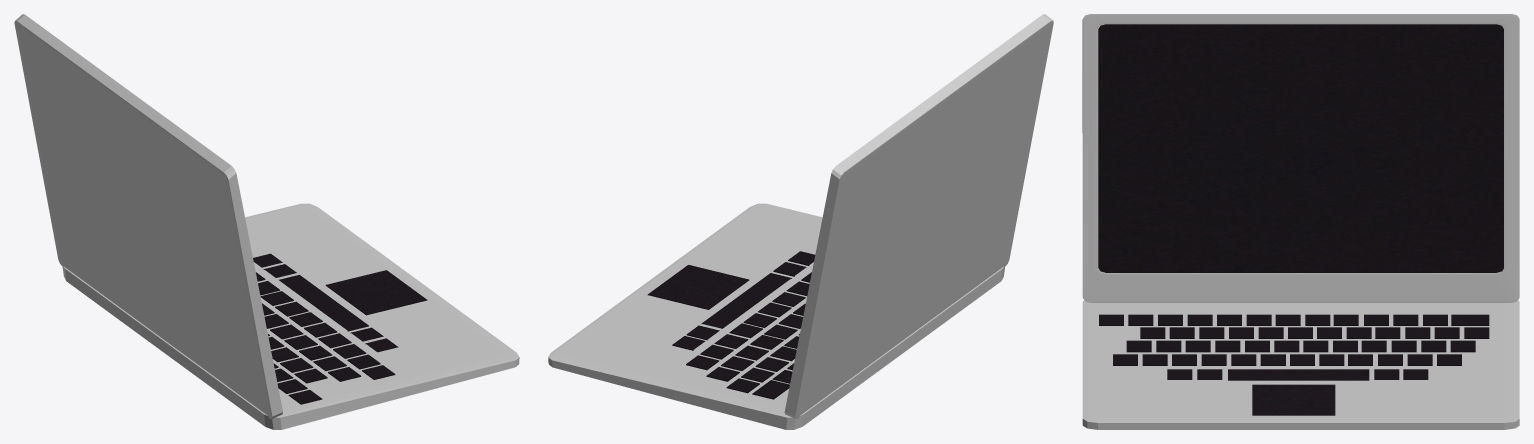
Rendered from leptop.fbx.
3 views of the same model, side by side, from view 1: azimuth 30°, elevation 25°; view 2: azimuth 150°, elevation 25°; view 3: azimuth 270°, elevation 25° (orthographic). The views are drawn at different scales.
Parts seen in each view (by area): view 1: Cube.001, Cube, Cube.002; view 2: Cube.001, Cube, Cube.002; view 3: Plane, Cube, Cube.001, Cube.002.
Boxes of the visible parts, x1,y1,x2,y2 form: Cube.001: [14, 14, 282, 418]; Cube: [62, 203, 519, 429]; Cube.002: [253, 253, 427, 404]; Cube.001: [784, 14, 1053, 418]; Cube: [548, 203, 1004, 429]; Cube.002: [647, 251, 815, 399]; Plane: [1098, 24, 1503, 272]; Cube: [1082, 300, 1519, 429]; Cube.001: [1082, 14, 1519, 302]; Cube.002: [1099, 314, 1489, 415].
Size of the model in its own units: 203 by 179 by 254.
